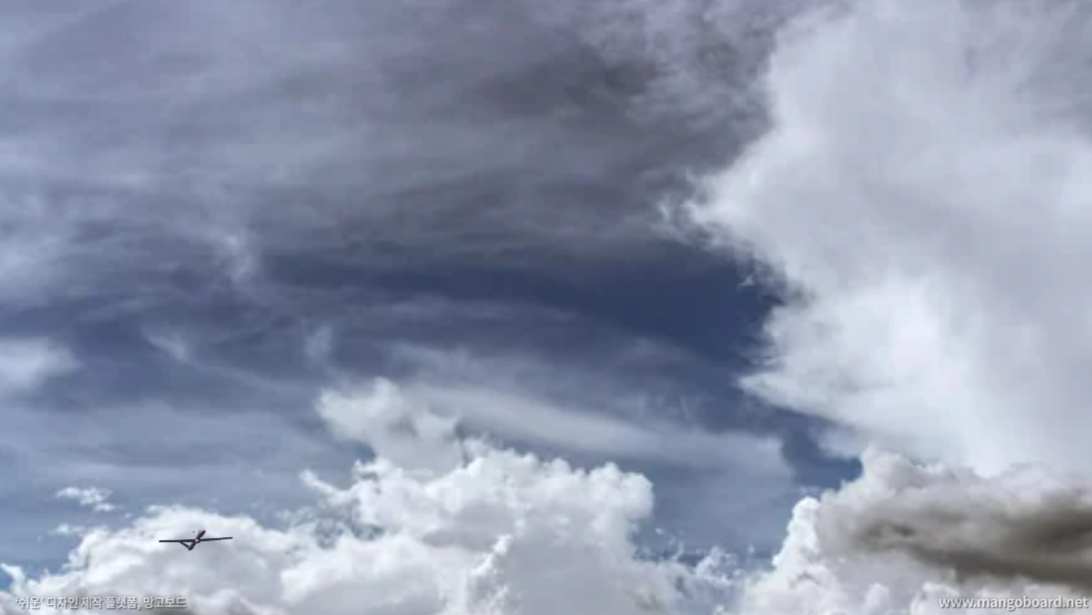military drone: (158, 528, 233, 551)
